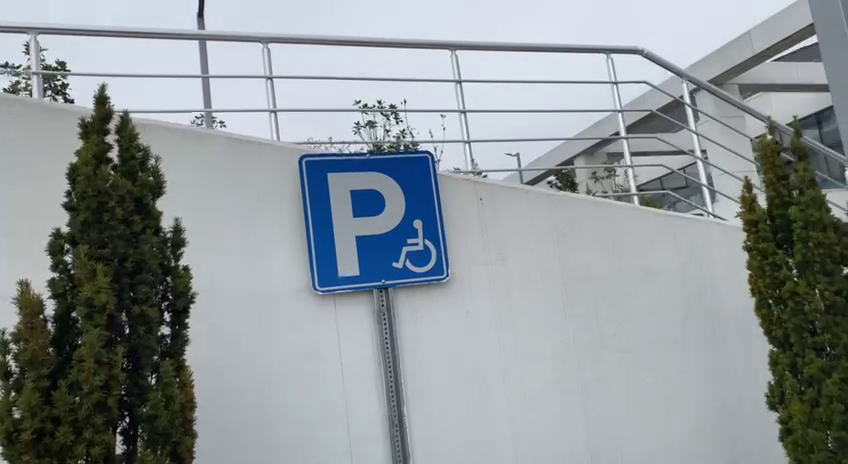parking: (295, 149, 451, 293)
